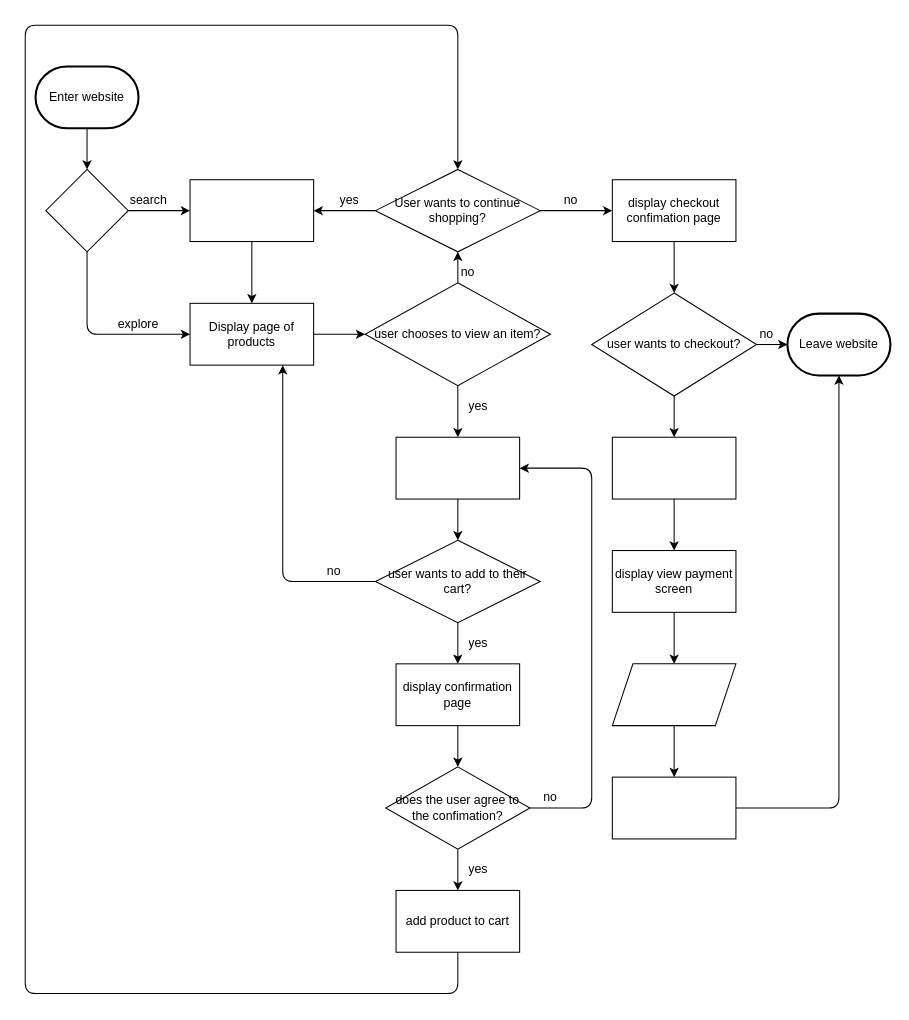
Some shapes in this 909 by 1020 pixel diagram are drawn without their labels. The shapes that lost their labels are listed below. From the top down, each one's box as (x1, y1, x2, y2) in pixels, then its label:
(45, 168, 128, 252): search or explore?
(189, 179, 314, 242): input product query
(395, 436, 520, 499): displays product's webpage
(611, 436, 736, 499): display view cart screen
(611, 663, 736, 726): read in payment information
(611, 776, 736, 839): send confirmation to display and to user email
